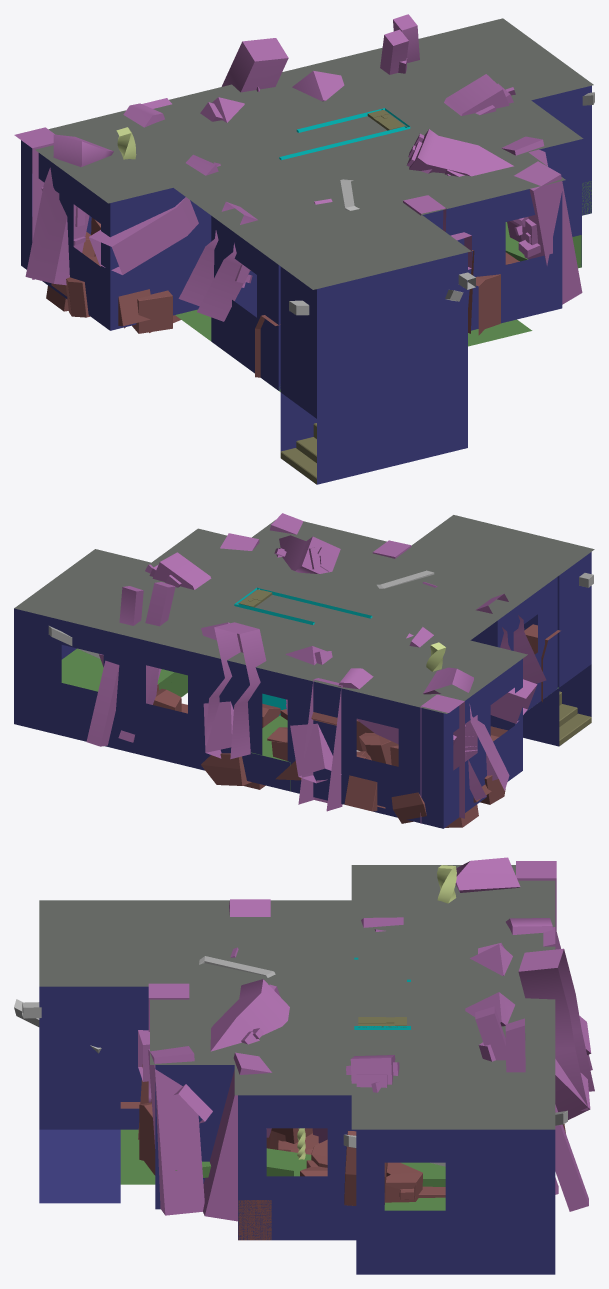
File: Nivel_3 (1).fbx
The picture shows the model from 3 angles, top to bottom: view 1: azimuth 30°, elevation 25°; view 2: azimuth 150°, elevation 25°; view 3: azimuth 270°, elevation 25°; orthographic projection. The views are drawn at different scales.
Visible parts, largest first — view 1: PAREDES, Techo, Protuberancias_Paredes, Protuberancias_Suelo, Piso, Escalera_1, Ramas, Escalera_2; view 2: Techo, PAREDES, Protuberancias_Paredes, Protuberancias_Suelo, Piso, Escalera_1, Escalera_2, Ramas; view 3: Techo, PAREDES, Protuberancias_Paredes, Protuberancias_Suelo, Piso, Ramas, Escalera_1, Estaca_3_Big.
Part boxes in pixels (x1=…): PAREDES: x1=21, y1=85, x2=591, y2=484; Techo: x1=35, y1=18, x2=593, y2=289; Protuberancias_Paredes: x1=14, y1=14, x2=582, y2=321; Protuberancias_Suelo: x1=46, y1=217, x2=519, y2=377; Piso: x1=175, y1=181, x2=591, y2=391; Escalera_1: x1=279, y1=108, x2=410, y2=160; Ramas: x1=289, y1=92, x2=594, y2=315; Escalera_2: x1=280, y1=423, x2=316, y2=484; Techo: x1=14, y1=515, x2=594, y2=713; PAREDES: x1=14, y1=552, x2=591, y2=828; Protuberancias_Paredes: x1=86, y1=513, x2=546, y2=823; Protuberancias_Suelo: x1=153, y1=624, x2=560, y2=827; Piso: x1=61, y1=648, x2=558, y2=790; Escalera_1: x1=234, y1=587, x2=372, y2=715; Escalera_2: x1=559, y1=691, x2=591, y2=745; Ramas: x1=48, y1=570, x2=593, y2=658; Techo: x1=39, y1=865, x2=555, y2=1129; PAREDES: x1=39, y1=986, x2=555, y2=1274; Protuberancias_Paredes: x1=138, y1=857, x2=594, y2=1221; Protuberancias_Suelo: x1=120, y1=1064, x2=565, y2=1240; Piso: x1=120, y1=1129, x2=445, y2=1210; Ramas: x1=14, y1=956, x2=567, y2=1166; Escalera_1: x1=354, y1=957, x2=410, y2=1029; Estaca_3_Big: x1=437, y1=865, x2=456, y2=903.
Bounding box in the file's own units: 16.32 × 7.16 × 14.3.
